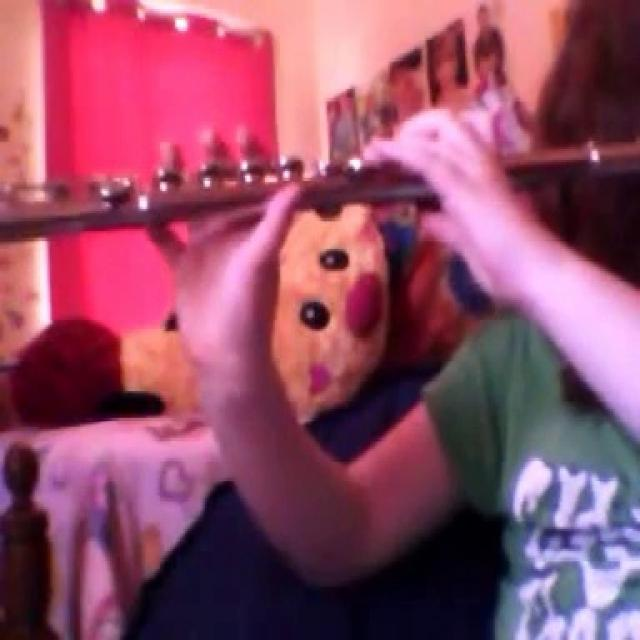Flute: (3, 126, 638, 260)
